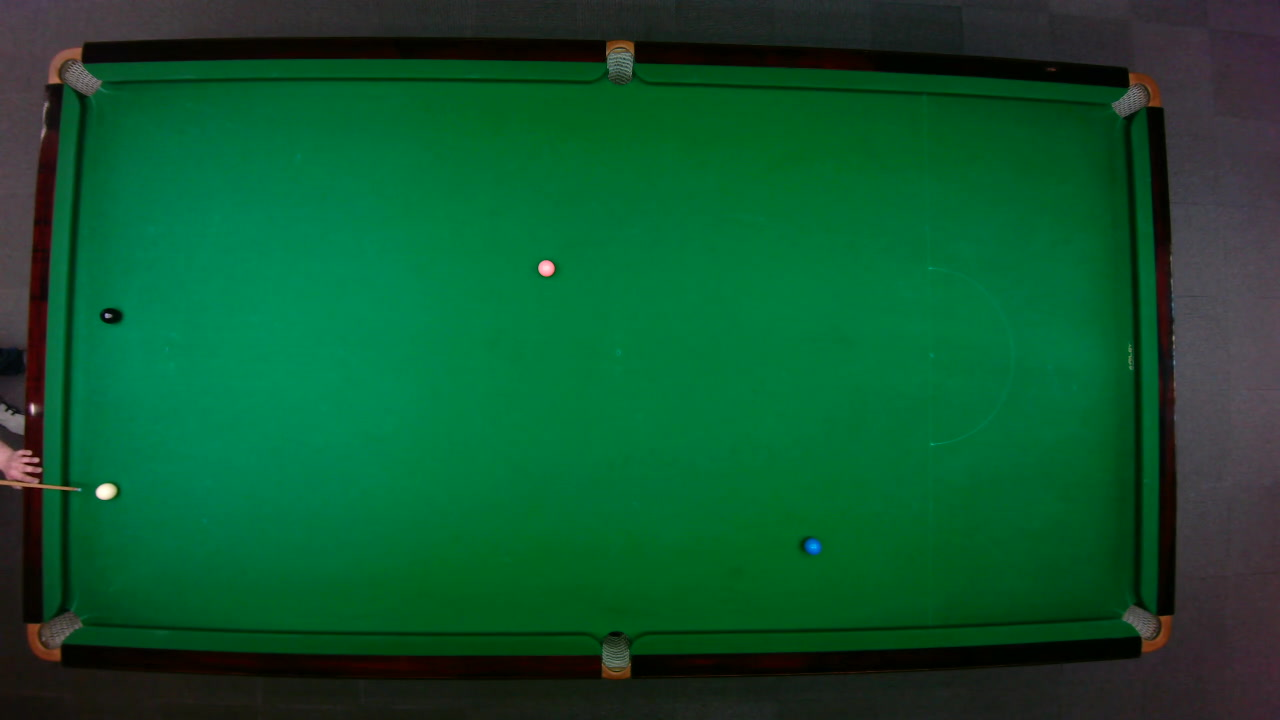bag: (25, 609, 83, 661), (45, 46, 102, 96), (1119, 603, 1171, 652), (1108, 71, 1161, 118), (600, 629, 629, 680), (605, 38, 633, 85)
black: (98, 306, 120, 323)
blue: (802, 536, 822, 555)
cue: (0, 478, 82, 492)
pink: (536, 258, 556, 277)
white: (94, 480, 118, 499)
zone: (927, 265, 1013, 446)
